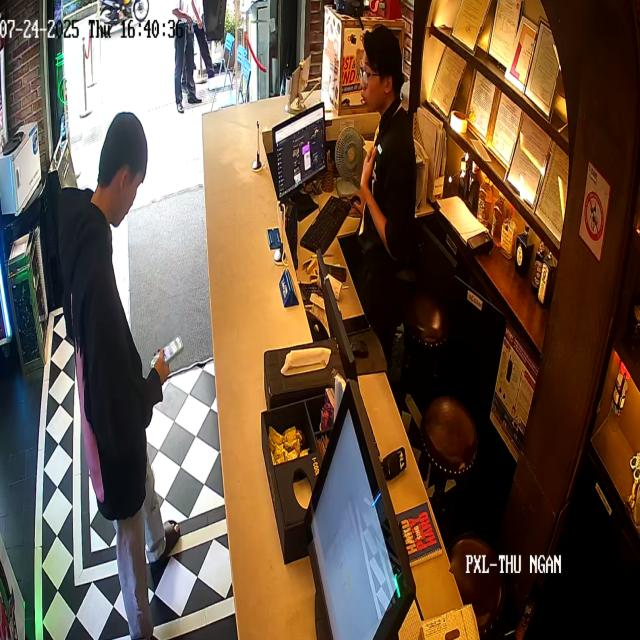khach: (63, 88, 198, 638)
nhan vien: (350, 20, 420, 335)
